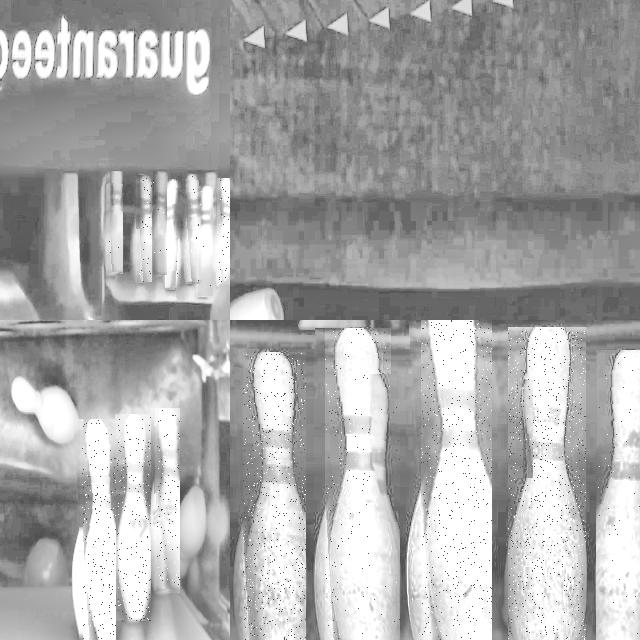bowling-pins: (508, 327, 585, 640), (421, 320, 492, 640), (325, 328, 391, 640), (243, 352, 306, 640), (598, 351, 640, 640), (370, 374, 399, 640), (82, 419, 115, 640), (117, 414, 151, 621), (157, 409, 179, 591), (153, 172, 167, 275), (165, 179, 178, 289), (199, 186, 212, 295), (109, 171, 122, 273), (187, 175, 199, 283), (139, 176, 151, 282), (219, 179, 230, 282), (523, 382, 533, 478)
